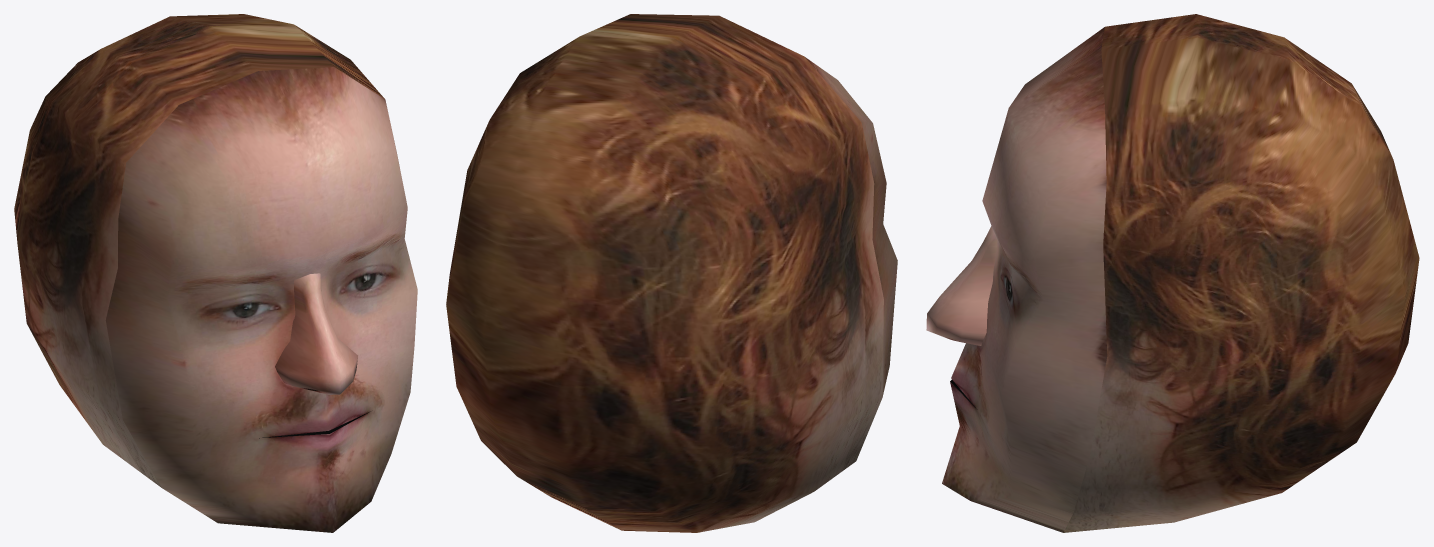
Rendered from lowpoly_ardit_head.glb.
3 renders of one model, left to right at view 1: azimuth 30°, elevation 25°; view 2: azimuth 150°, elevation 25°; view 3: azimuth 270°, elevation 25°, orthographic. The views are drawn at different scales.
Parts seen in each view (by area): view 1: face front, nose; view 2: face front; view 3: face front, nose.
Part boxes in pixels (x1=…): face front: x1=14, y1=14, x2=417, y2=532; nose: x1=275, y1=273, x2=357, y2=394; face front: x1=446, y1=14, x2=897, y2=532; face front: x1=942, y1=14, x2=1419, y2=532; nose: x1=926, y1=226, x2=997, y2=345.
Bounding box in the file's own units: 1.53 × 2.09 × 1.95.
4 materials, 3 textured.
